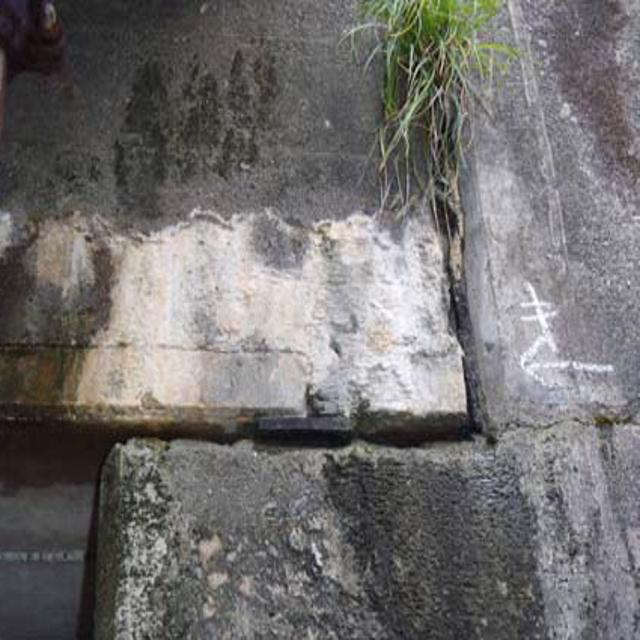leakage: (325, 378, 545, 640)
